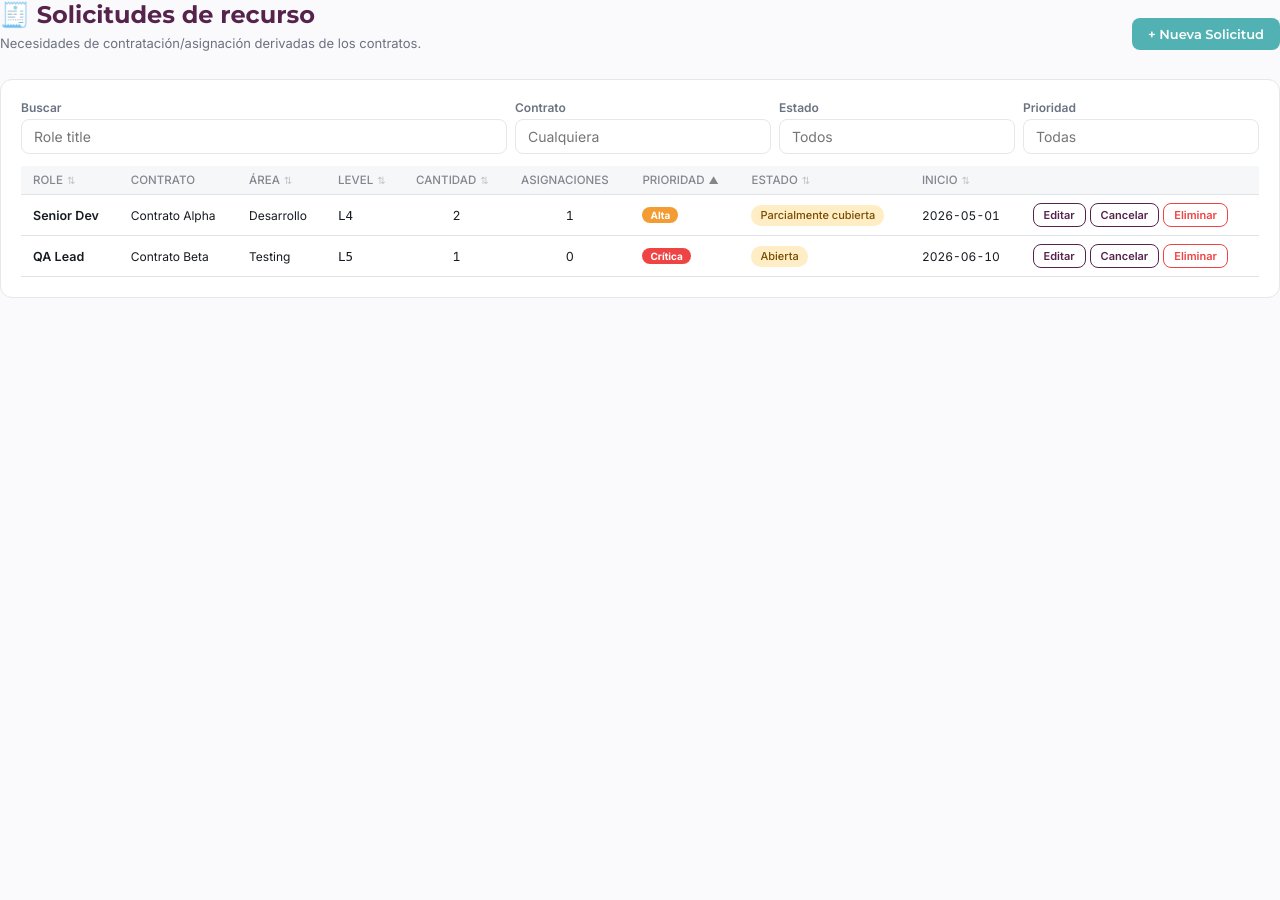
ResourceRequests module › SPEC-010: selector de contrato con búsqueda por texto › la búsqueda es insensible a mayúsculas
Expected: the text "Senior Dev" is shown, [21,194,119,236]
Click the button "+ Nueva Solicitud". click: (1206, 34)
box: [1132,18,1279,50]
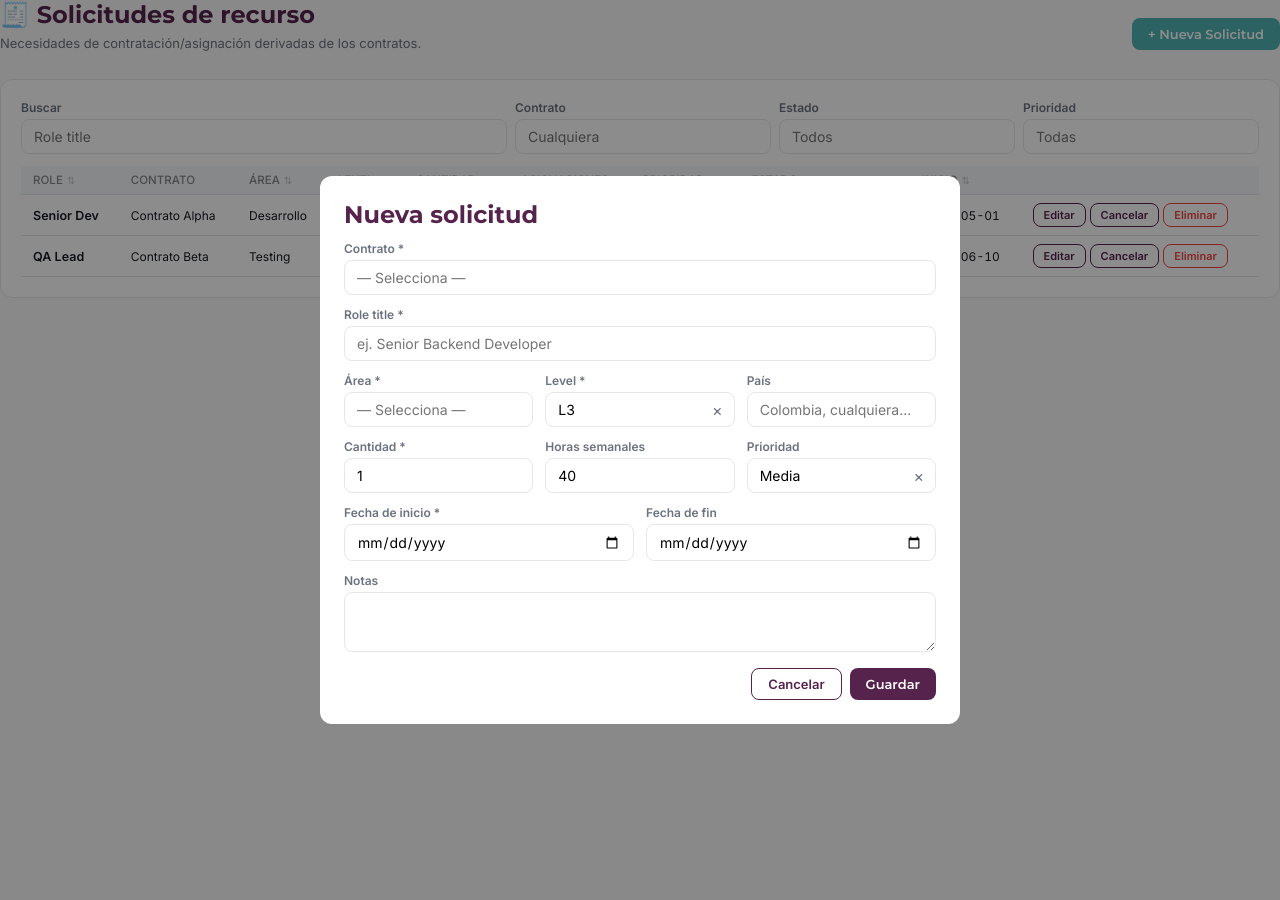
Type "beta" into the dropdown named "Contrato". click: (640, 278)
box: [344,260,936,295]
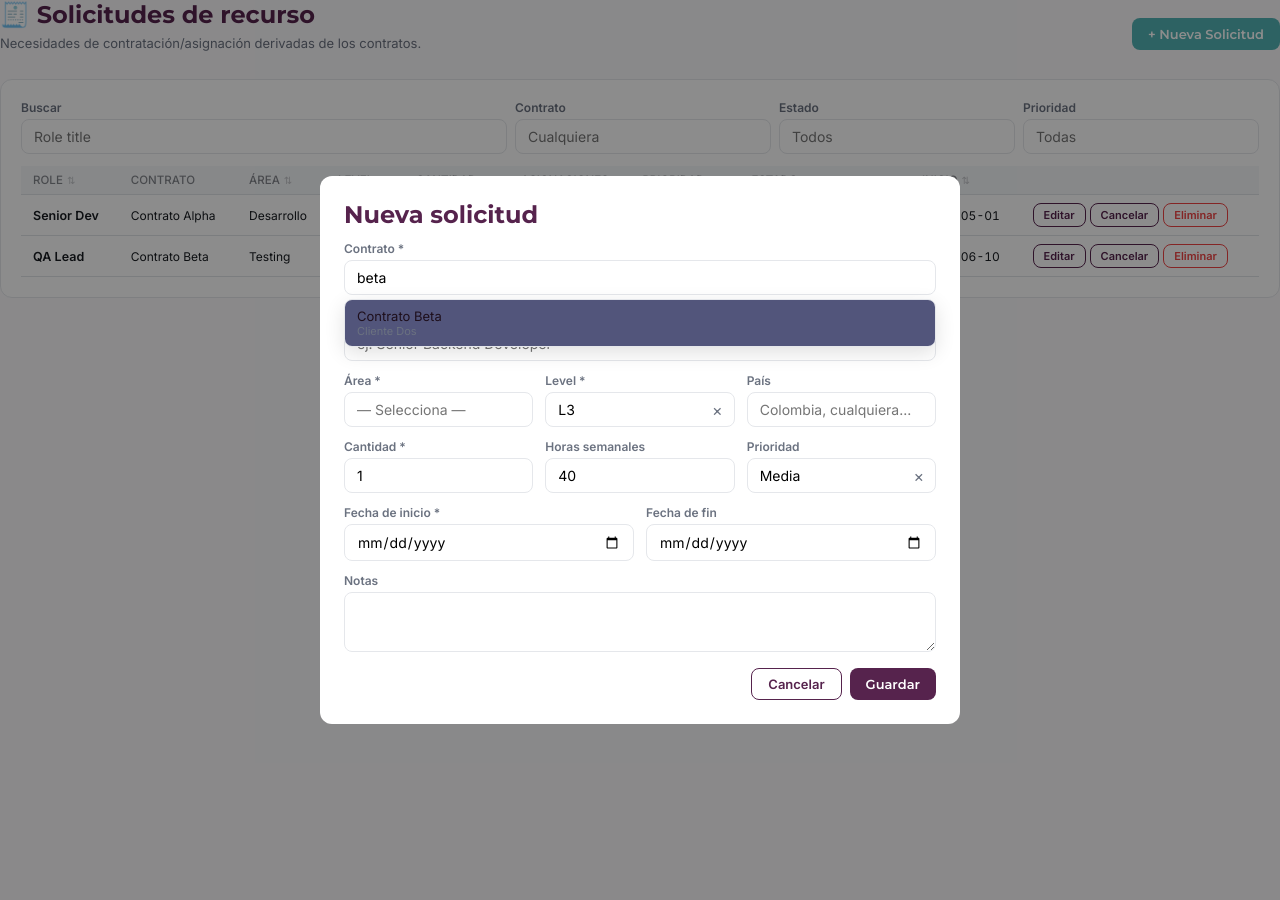
Expected: the text "Contrato Beta" is shown, [357,308,442,324]
